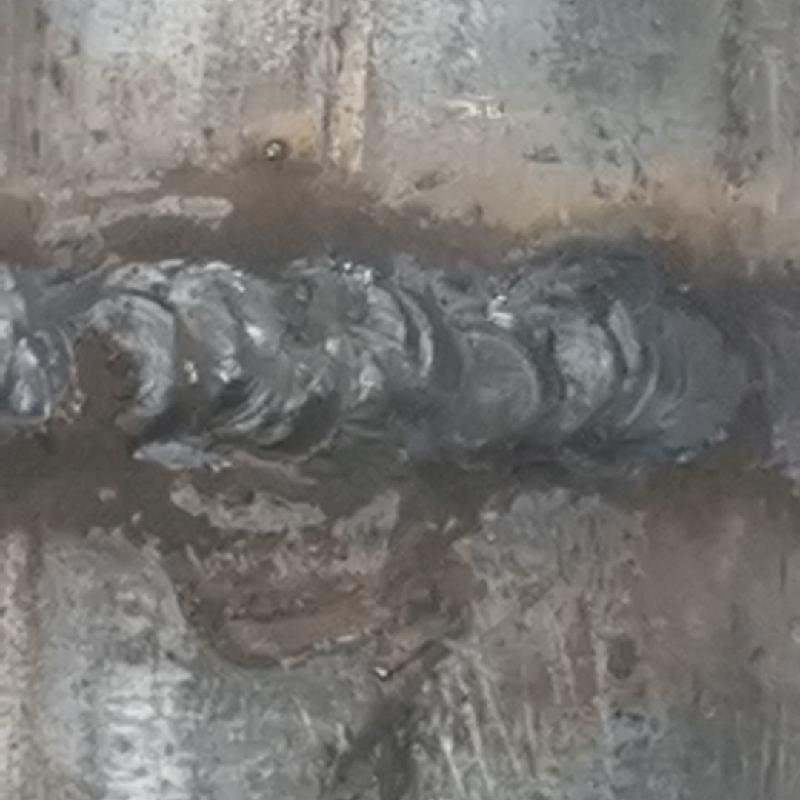good: (2, 260, 799, 490)
